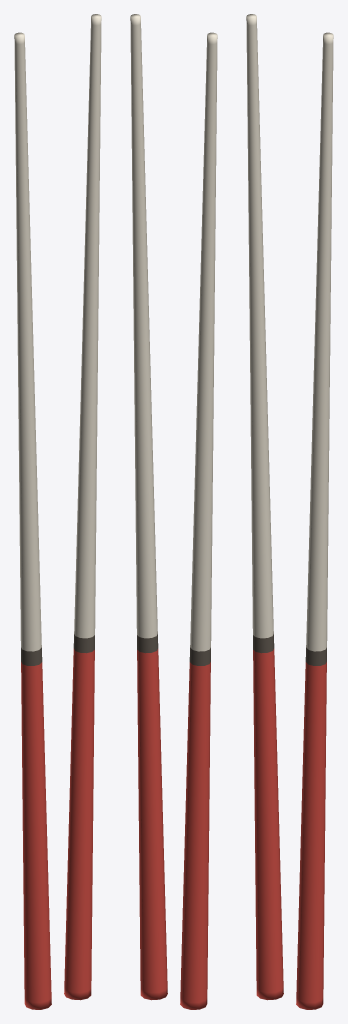
The model's file is FryingChopsticks.fbx.
The picture shows the model from 3 angles, left to right: view 1: azimuth 30°, elevation 25°; view 2: azimuth 150°, elevation 25°; view 3: azimuth 330°, elevation 25°; orthographic projection.
Parts seen in each view (by area): view 1: FryingChopsticks; view 2: FryingChopsticks; view 3: FryingChopsticks.
Boxes of the visible parts, x1=… form: FryingChopsticks: x1=14, y1=14, x2=101, y2=1009; FryingChopsticks: x1=130, y1=14, x2=217, y2=1009; FryingChopsticks: x1=246, y1=14, x2=333, y2=1009.
Bounding box in the file's own units: 0.0304 × 0.3301 × 0.00799.
